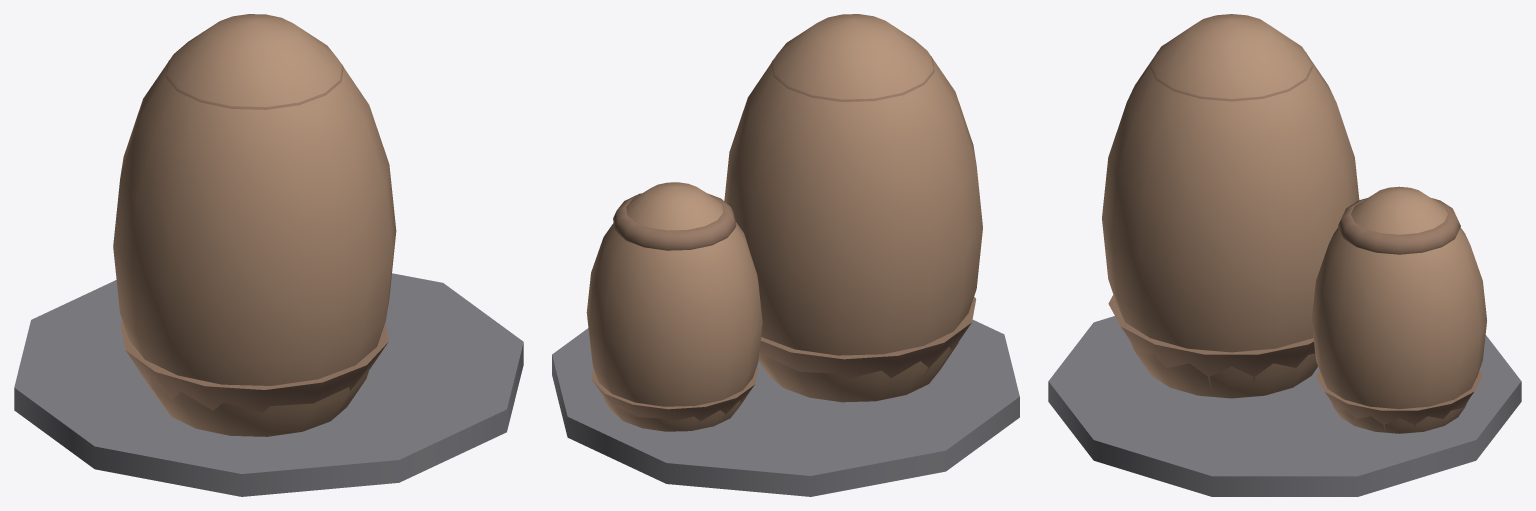
File: Kerb_Onggi.fbx
3 renders of one model, left to right at view 1: azimuth 30°, elevation 25°; view 2: azimuth 150°, elevation 25°; view 3: azimuth 270°, elevation 25°, orthographic. The views are drawn at different scales.
Parts seen in each view (by area): view 1: Kerb_Onggi; view 2: Kerb_Onggi; view 3: Kerb_Onggi.
Boxes of the visible parts, x1,y1,x2,y2 form: Kerb_Onggi: [14, 14, 523, 496]; Kerb_Onggi: [552, 14, 1019, 496]; Kerb_Onggi: [1048, 14, 1521, 496].
Bounding box in the file's own units: 1.18 × 1.14 × 1.24.
